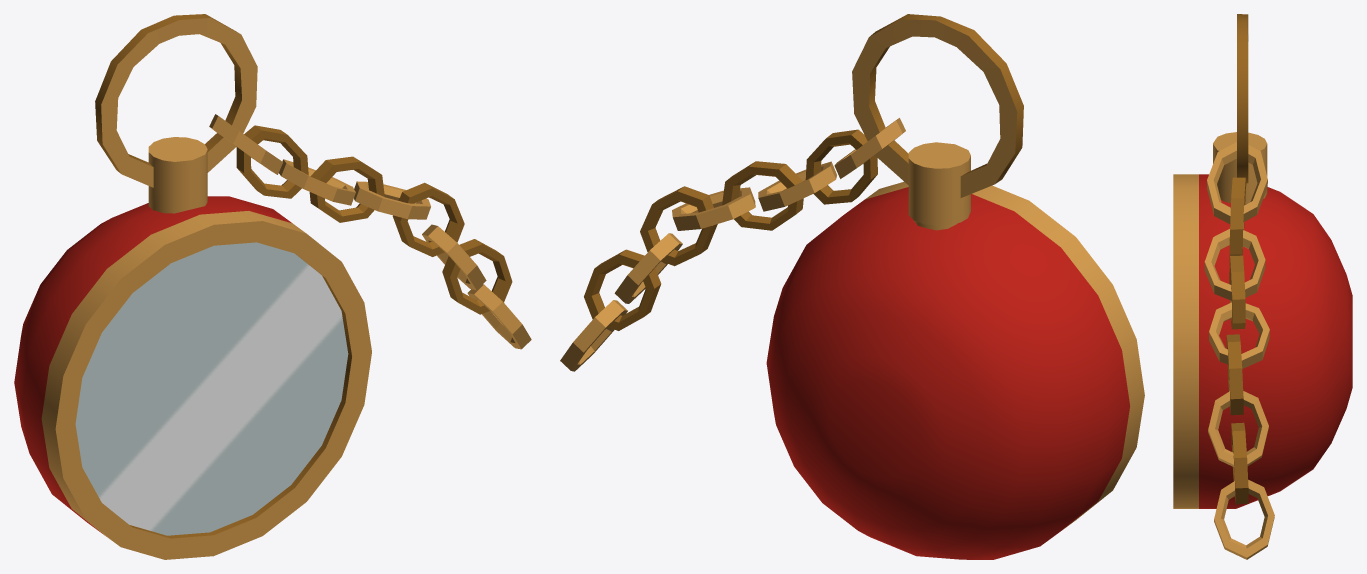
Rendered from Treasure3.fbx.
The picture shows the model from 3 angles, left to right: view 1: azimuth 30°, elevation 25°; view 2: azimuth 150°, elevation 25°; view 3: azimuth 270°, elevation 25°; orthographic projection. The views are drawn at different scales.
Visible parts, largest first — view 1: GlassPocketwatch, PocketWatch, Chain, Handle; view 2: PocketWatch, Chain, Handle; view 3: PocketWatch, Chain, Handle.
Boxes of the visible parts, box(x1,y1,x2,y2) form: GlassPocketwatch: box(75, 242, 348, 535); PocketWatch: box(14, 196, 371, 559); Chain: box(209, 114, 531, 349); Handle: box(95, 14, 257, 213); PocketWatch: box(766, 182, 1144, 559); Chain: box(560, 118, 905, 371); Handle: box(852, 14, 1023, 230); PocketWatch: box(1173, 174, 1352, 508); Chain: box(1204, 142, 1274, 559); Handle: box(1213, 14, 1267, 204).
Size of the model in its own units: 77.89 by 74.68 by 25.73.
